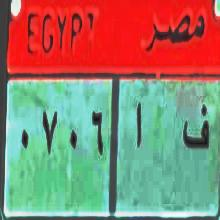0: (65, 122, 83, 165), (17, 117, 31, 167)
6: (88, 108, 111, 164)
7: (38, 110, 60, 157)
alif: (130, 99, 146, 156)
faa: (182, 100, 210, 155)
